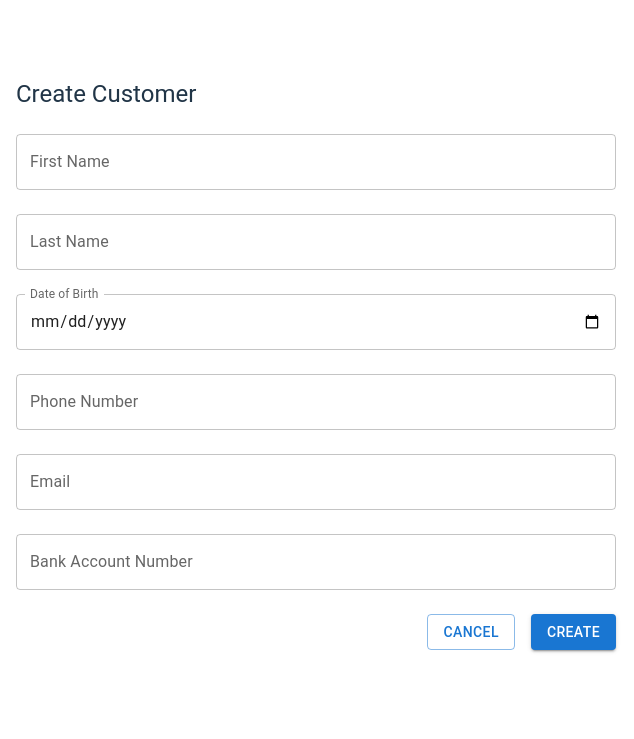
Test: CustomerForm › validates bank account number format
In the field labelled "Bank Account Number": (316, 562) [16,534,616,590], type "123"
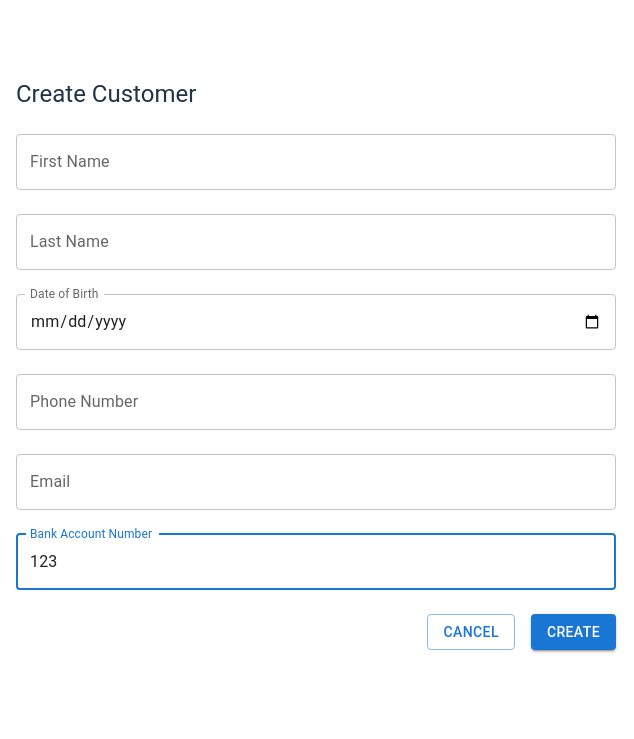
Click the button "Create": (573, 632) [531,614,616,650]
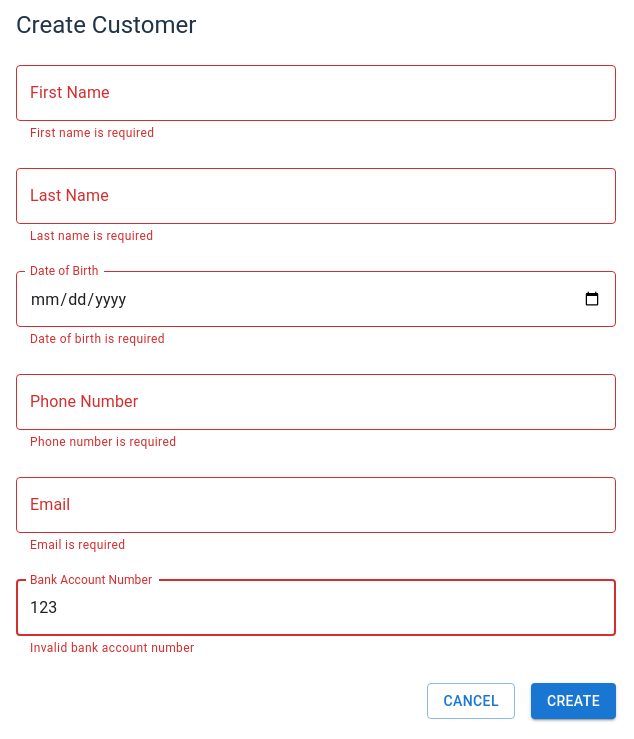
Now the text "Invalid bank account number" is shown, box [30,641,194,655]
